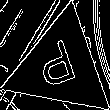P_S: (36, 37, 86, 96)
